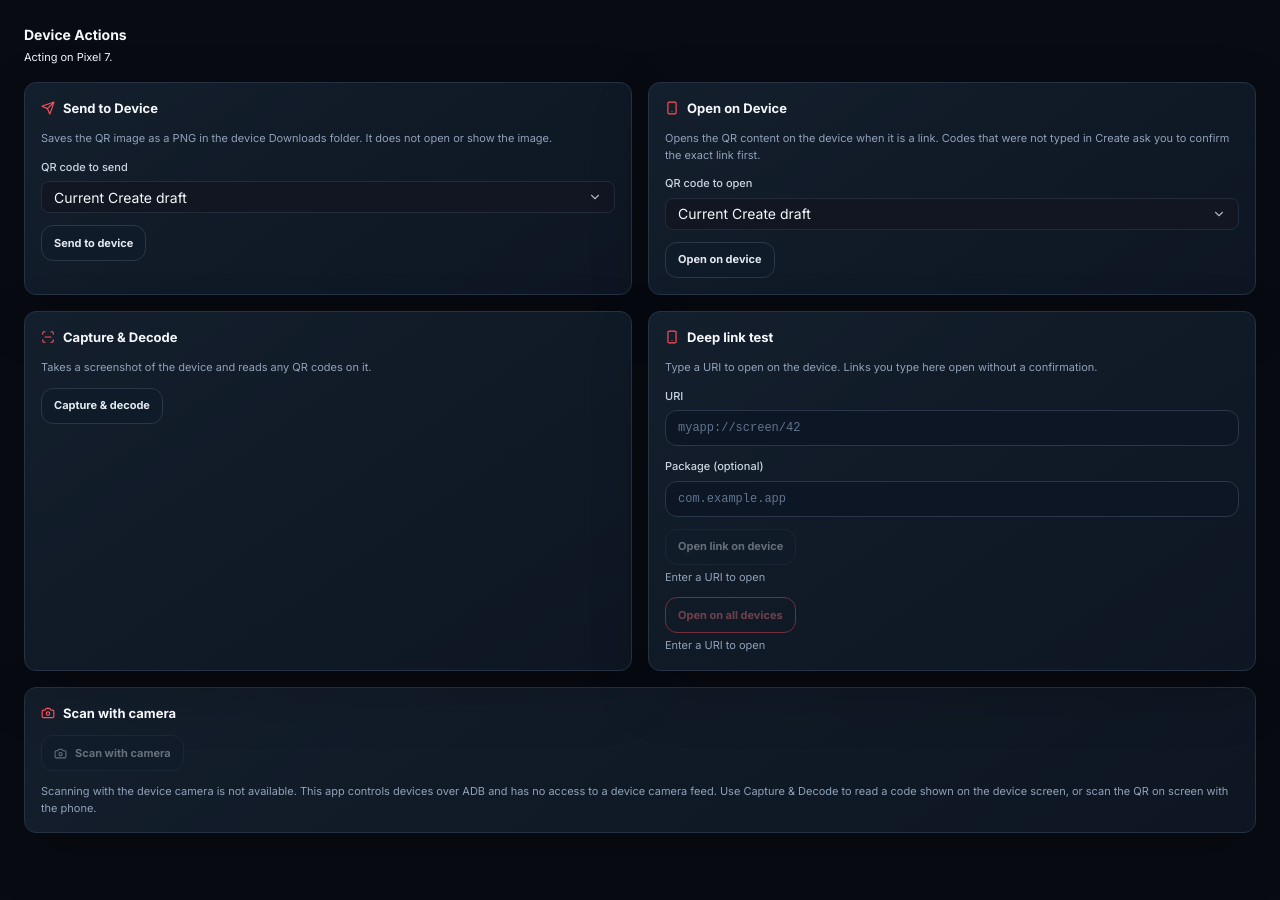
Test: Open on all devices › broadcasts a typed URI to every Android serial and every booted sim
Type "myapp://item?id=1&x=2" into the field labelled "URI" at x=952, y=428, box [665,410,1239,446]
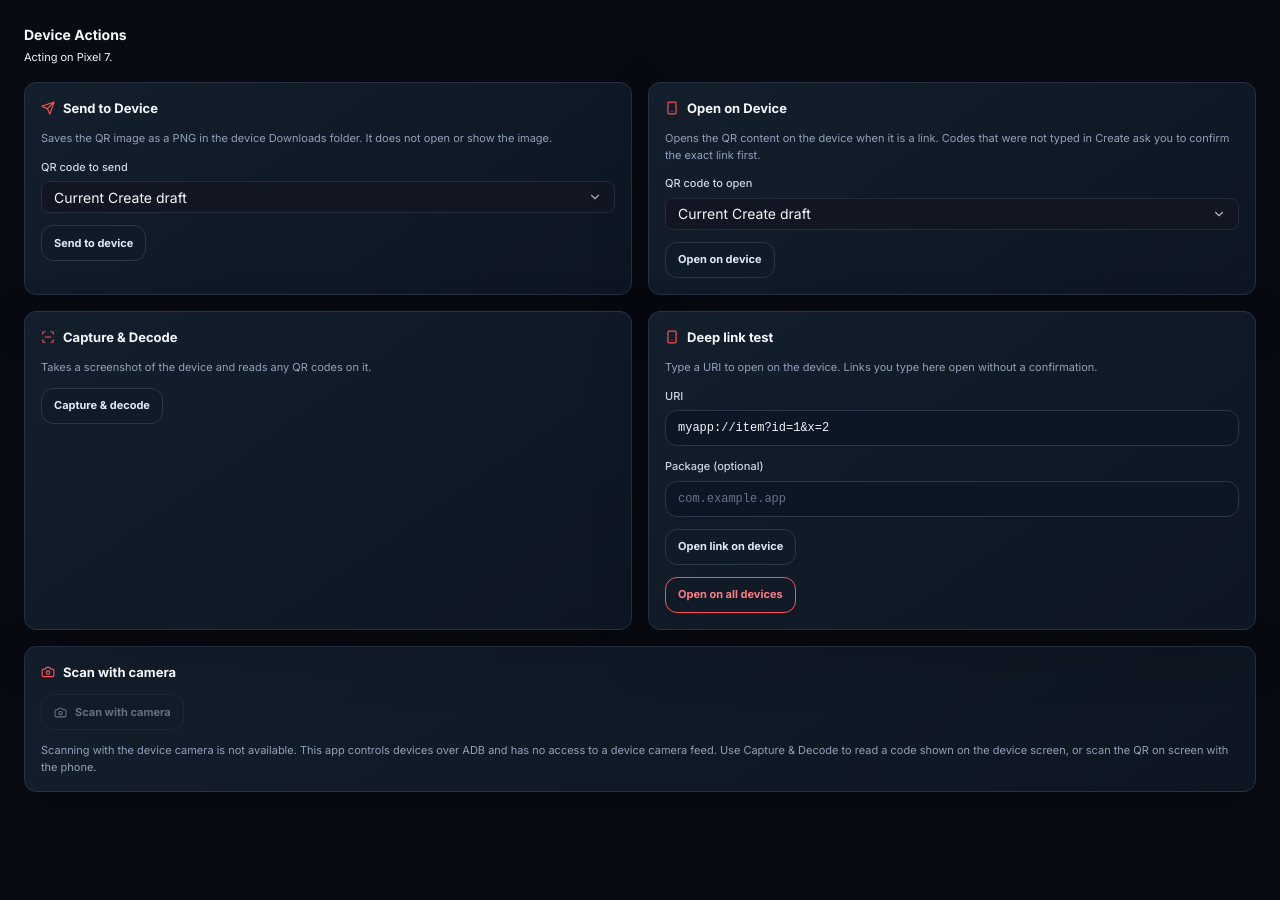
Click the button "Open on all devices" at x=730, y=594, box [665,576,796,612]
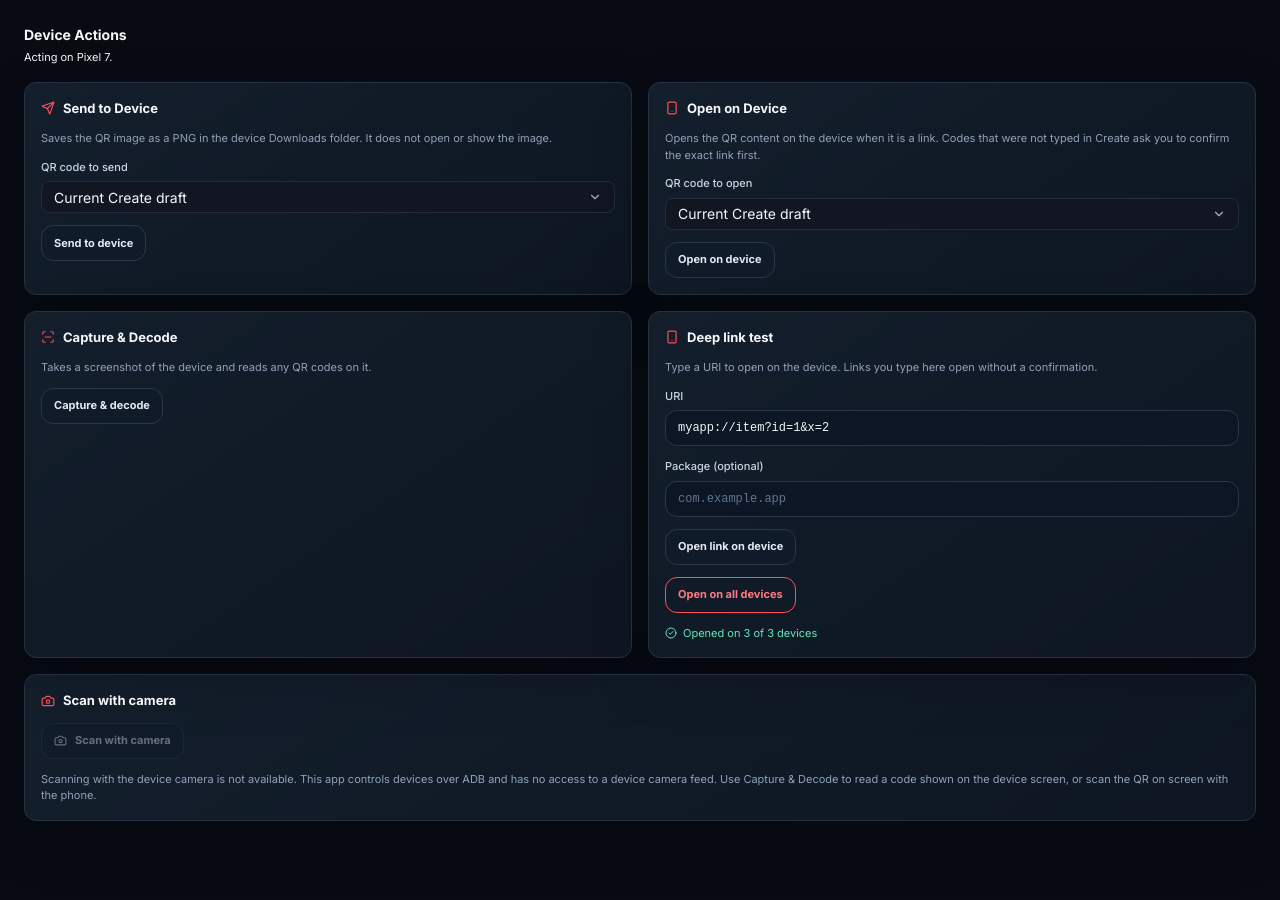
Expected: the text "Opened on 3 of 3 devices" is shown, [683,624,817,641]
